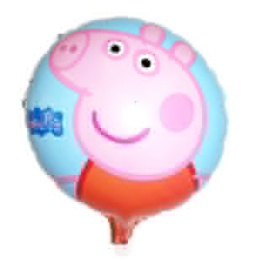Peppa: (49, 23, 209, 213)
